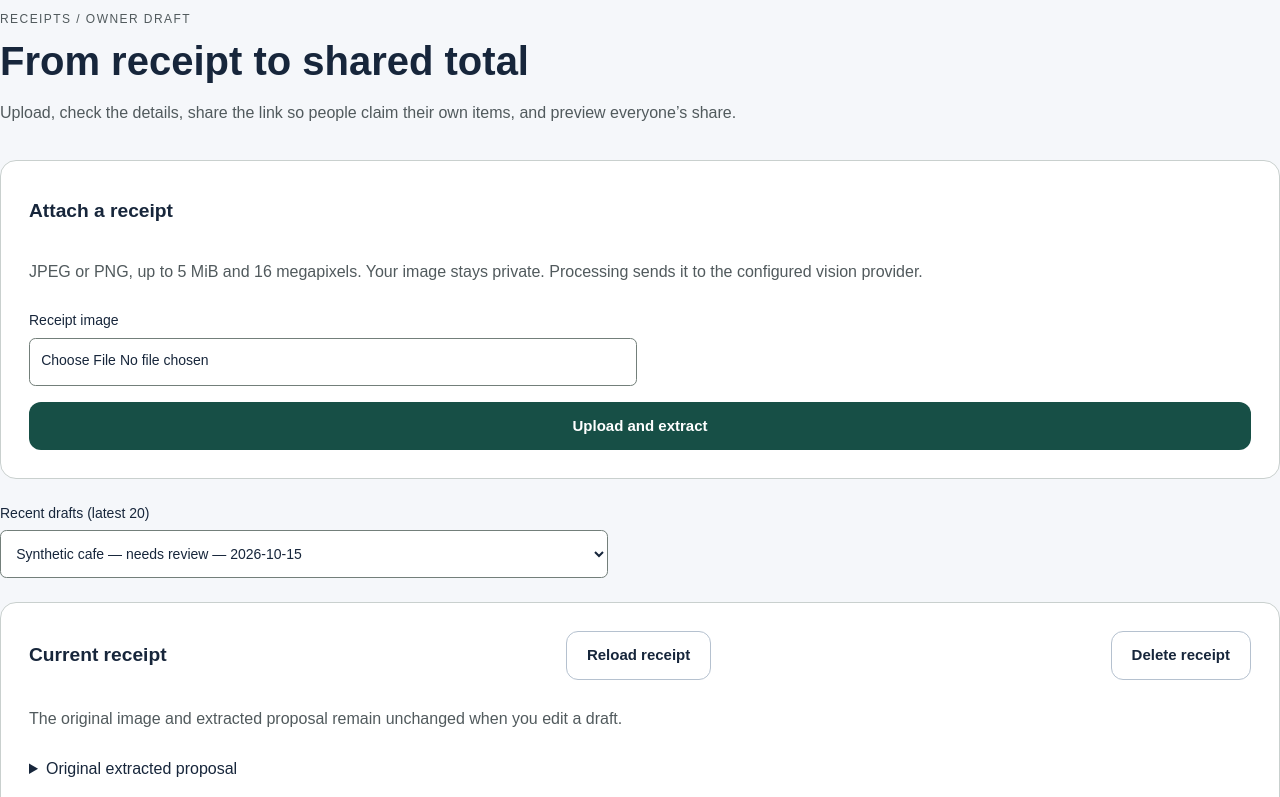
owner receipt review › deletes the open receipt after confirmation and clears it from the page
Expected: the dropdown labelled "Recent drafts (latest 20)" shows "Synthetic cafe — needs review — 2026-10-15", [0, 530, 608, 578]
Click the button "Delete receipt": x=1181, y=656 [1111, 631, 1251, 680]
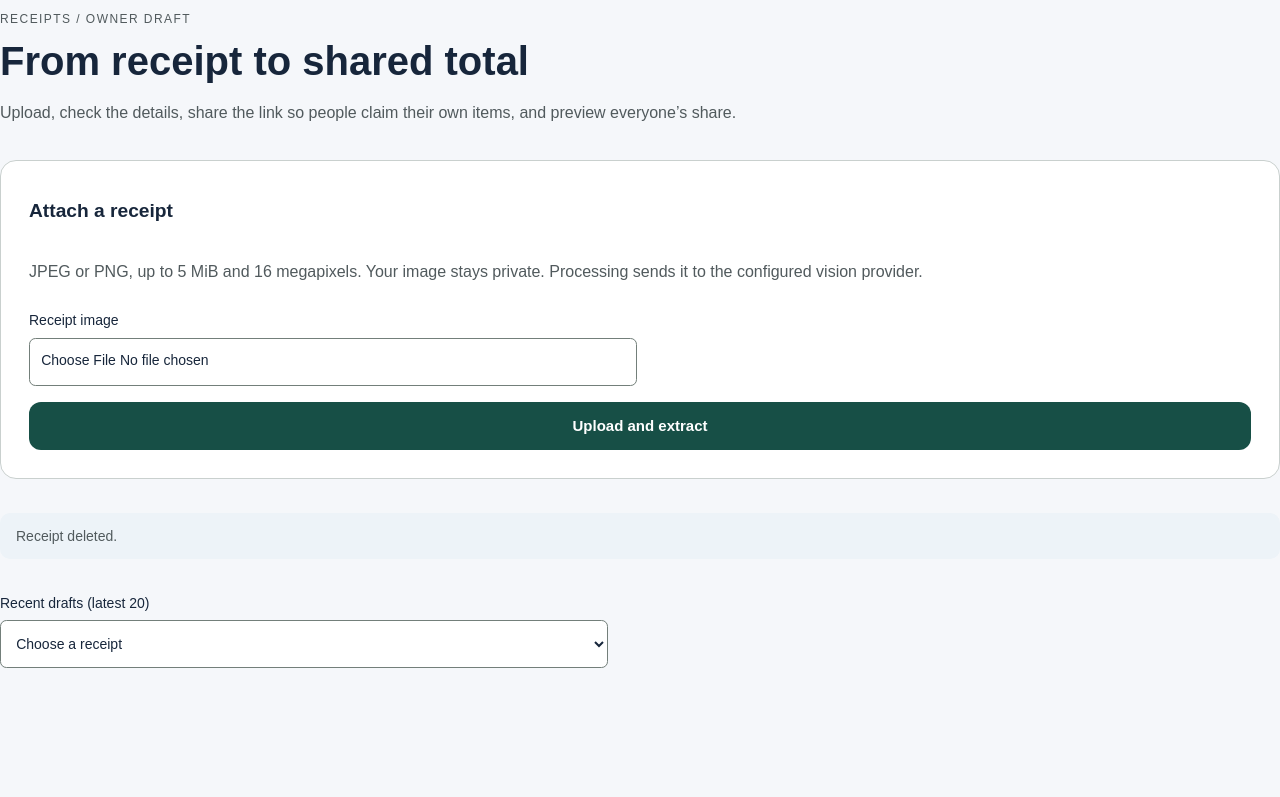
Expected: the text "Receipt deleted." is shown, [0, 513, 1279, 559]
Expected: the button "Delete receipt" is gone
